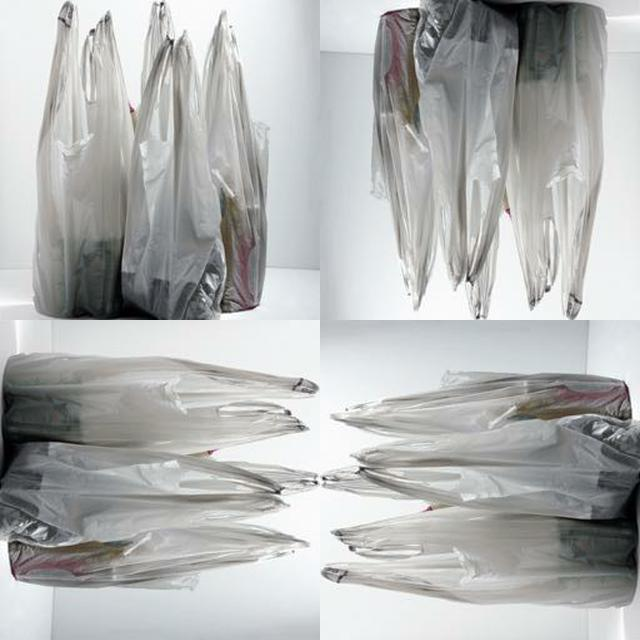Single-layer Plastic: (322, 415, 640, 520), (0, 441, 312, 546), (32, 2, 134, 318), (322, 506, 638, 608), (2, 354, 319, 454), (506, 4, 606, 319), (415, 0, 519, 286), (121, 34, 225, 319), (204, 11, 269, 312), (371, 9, 436, 310), (332, 371, 631, 436), (9, 524, 306, 589)
